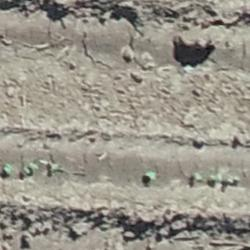cotton: (3, 164, 11, 174), (193, 173, 201, 182), (209, 176, 219, 182), (147, 171, 154, 179), (22, 167, 29, 173)
